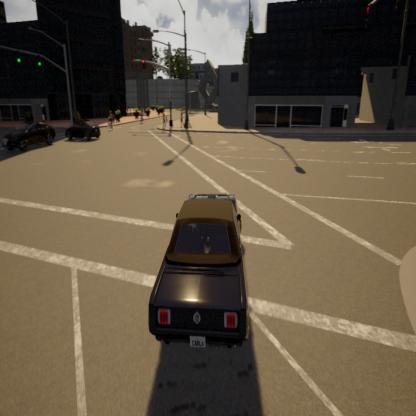Cars: (145, 188, 253, 352), (4, 119, 56, 150), (64, 121, 102, 145)
Pedestrian: (179, 107, 185, 129), (108, 108, 114, 129), (162, 113, 166, 130)
